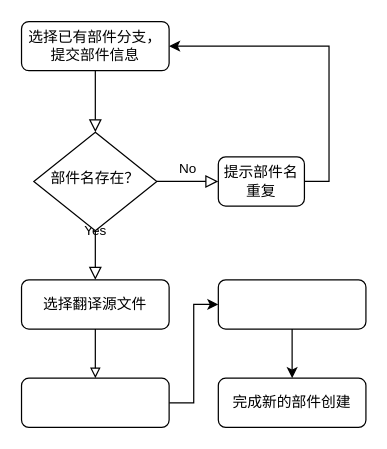
This 387x449 diagram has some shape labels left out. Here are the shapes that lost their labels. From the top down, the centre of each, then its label:
At point 291,304: "Celery拉取仓库所选分支到本地".
At point 94,402: "填写翻译部件信息".
